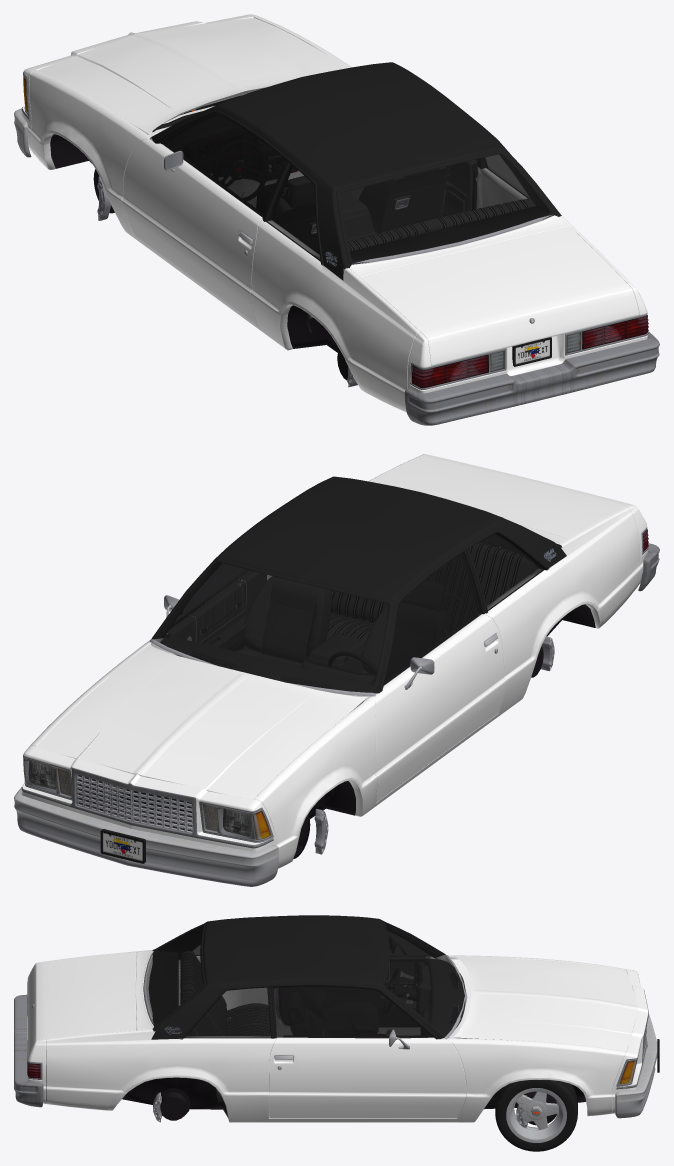
Rendered from clover.fbx.
The picture shows the model from 3 angles, top to bottom: view 1: azimuth 30°, elevation 25°; view 2: azimuth 150°, elevation 25°; view 3: azimuth 270°, elevation 25°; orthographic projection. The views are drawn at different scales.
Visible parts, largest first — view 1: CARROCERIA, boot, PUERTA2, bonnet_ok, VIDRIO, bumper_r, INTERIOR, TBALERO, STOPS, PUERTA1, VOLANTE, frame28; view 2: CARROCERIA, bonnet_ok, VIDRIO, PUERTA2, INTERIOR, bumper_f, boot, TBALERO, PUERTA1, grill, GLAS, MOTTOR.002 (+1 smaller); view 3: CARROCERIA, PUERTA1, bonnet_ok, VIDRIO, boot, INTERIOR, tyre, TBALERO, PUERTA2, bumper_r, bumper_f, transmission_r (+2 smaller).
Boxes of the visible parts, left/top/right/bottom form: CARROCERIA: left=21, top=14, right=648, bottom=412; boot: left=360, top=226, right=639, bottom=366; PUERTA2: left=121, top=115, right=286, bottom=324; bonnet_ok: left=37, top=17, right=347, bottom=134; VIDRIO: left=211, top=105, right=549, bottom=260; bumper_r: left=404, top=331, right=659, bottom=425; INTERIOR: left=260, top=167, right=535, bottom=333; TBALERO: left=164, top=116, right=376, bottom=241; STOPS: left=412, top=315, right=648, bottom=388; PUERTA1: left=443, top=160, right=479, bottom=216; VOLANTE: left=213, top=140, right=266, bottom=200; frame28: left=512, top=337, right=551, bottom=366; CARROCERIA: left=21, top=454, right=648, bottom=868; bonnet_ok: left=37, top=644, right=367, bottom=799; VIDRIO: left=153, top=534, right=542, bottom=692; PUERTA2: left=375, top=552, right=505, bottom=802; INTERIOR: left=235, top=542, right=538, bottom=678; bumper_f: left=14, top=787, right=278, bottom=886; boot: left=371, top=454, right=631, bottom=538; TBALERO: left=160, top=633, right=375, bottom=692; PUERTA1: left=144, top=563, right=266, bottom=650; grill: left=76, top=774, right=193, bottom=833; GLAS: left=28, top=760, right=252, bottom=836; MOTTOR.002: left=106, top=783, right=192, bottom=831; CARROCERIA: left=27, top=915, right=648, bottom=1122; PUERTA1: left=269, top=987, right=466, bottom=1118; bonnet_ok: left=451, top=956, right=637, bottom=1051; VIDRIO: left=145, top=922, right=464, bottom=1037; boot: left=27, top=952, right=136, bottom=1058; INTERIOR: left=180, top=951, right=377, bottom=1102; tyre: left=495, top=1080, right=577, bottom=1151; TBALERO: left=321, top=959, right=465, bottom=1035; PUERTA2: left=276, top=931, right=446, bottom=1026; bumper_r: left=14, top=994, right=43, bottom=1107; bumper_f: left=615, top=1014, right=659, bottom=1118; transmission_r: left=160, top=1088, right=190, bottom=1120.
Bounding box in the file's own units: 2.17 × 5.86 × 1.61.
57 materials, 53 textured.
